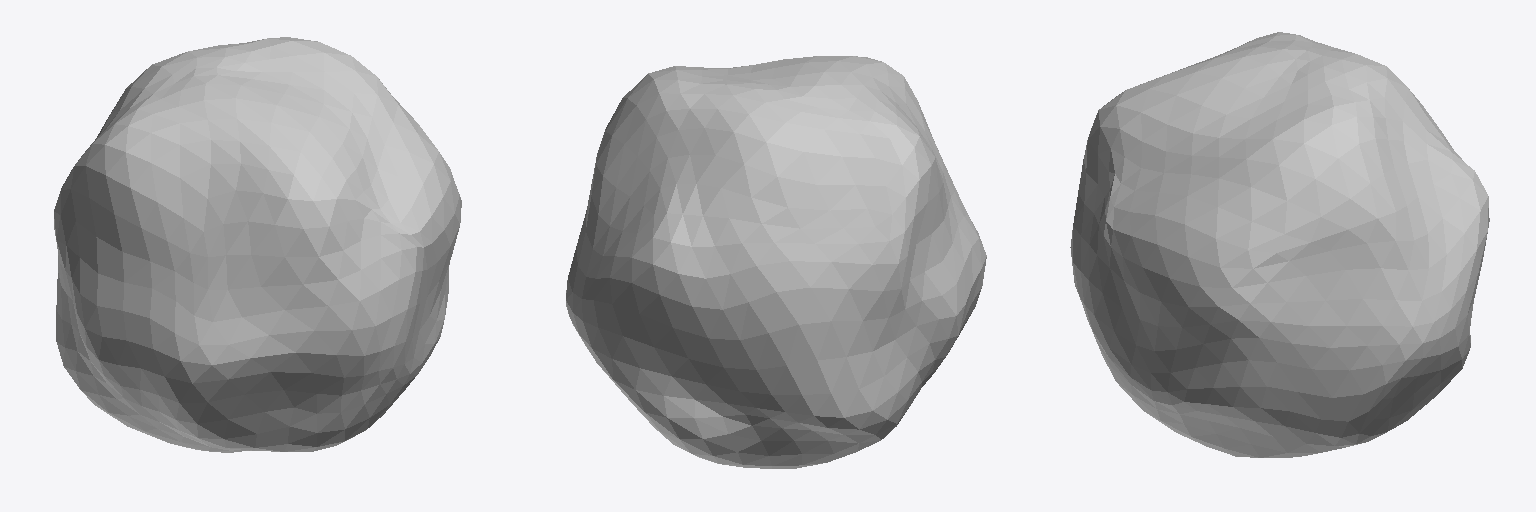
File: góry lodowe3.obj
3 views of the same model, side by side, from view 1: azimuth 30°, elevation 25°; view 2: azimuth 150°, elevation 25°; view 3: azimuth 270°, elevation 25° (orthographic).
Visible parts, largest first — view 1: Icosphere.001; view 2: Icosphere.001; view 3: Icosphere.001.
Boxes of the visible parts, x1=… form: Icosphere.001: x1=54, y1=37, x2=461, y2=452; Icosphere.001: x1=566, y1=56, x2=986, y2=468; Icosphere.001: x1=1070, y1=32, x2=1489, y2=457.
Size of the model in its own units: 1.98 by 1.95 by 2.